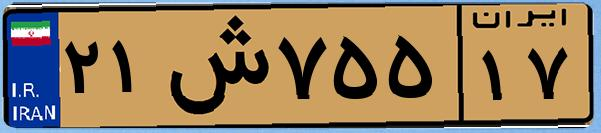1: (475, 38, 525, 113), (110, 28, 158, 98)
2: (57, 26, 110, 100)
5: (385, 28, 445, 110), (330, 28, 385, 110)
7: (270, 28, 330, 110), (525, 38, 570, 115)
ش: (158, 12, 270, 120)
